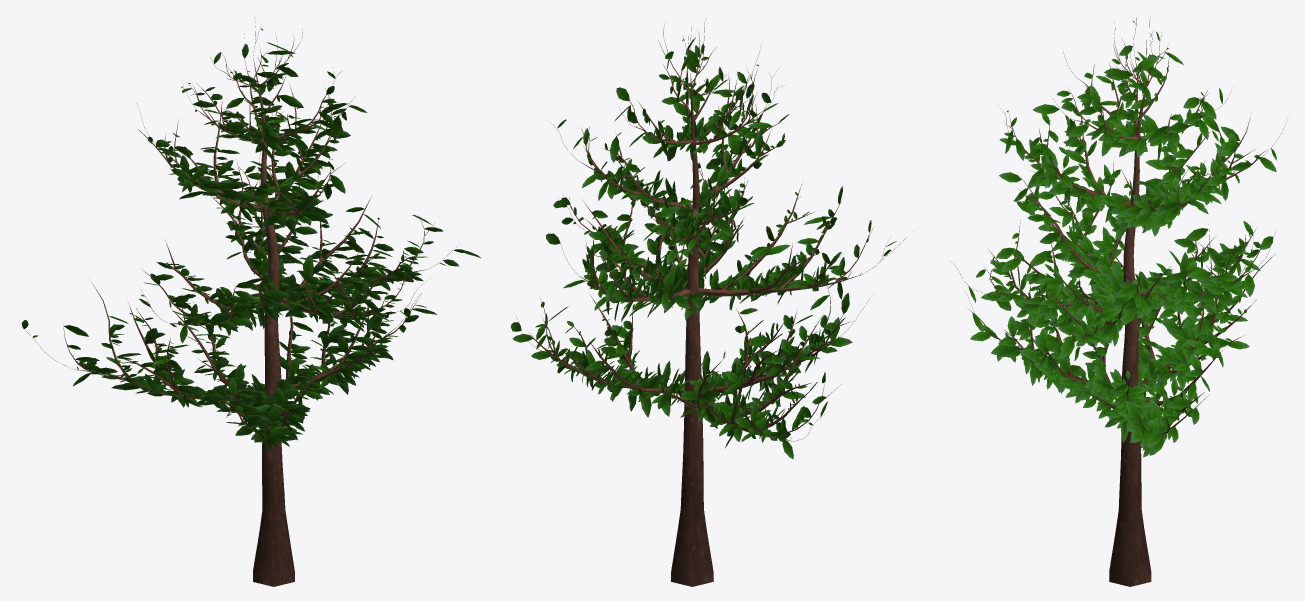
Rendered from Tree2.fbx.
The picture shows the model from 3 angles, left to right: view 1: azimuth 30°, elevation 25°; view 2: azimuth 150°, elevation 25°; view 3: azimuth 270°, elevation 25°; orthographic projection.
Parts seen in each view (by area): view 1: tree.001; view 2: tree.001; view 3: tree.001.
Part boxes in pixels (x1,y1,x2,y2): tree.001: (21, 17, 480, 586); tree.001: (510, 19, 906, 586); tree.001: (950, 17, 1284, 586).
Bounding box in the file's own units: 5.44 × 7.8 × 4.38.
